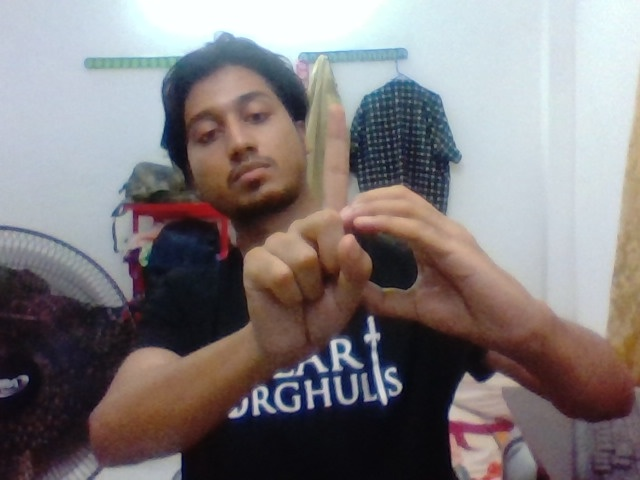D: (277, 84, 442, 313)
